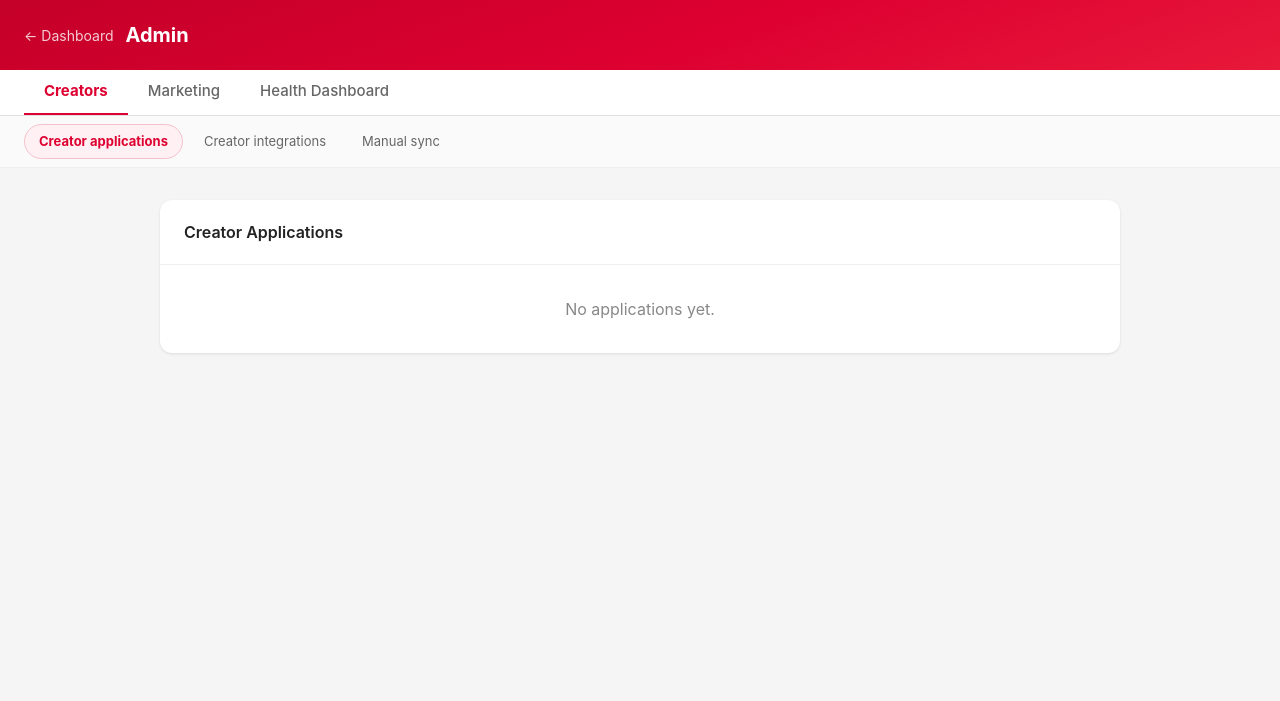
Test case: admin Sources tab — poll health › names the source that polls cleanly and produces nothing
The width and height of the screenshot is (1280, 701).
Click the button "Creator integrations" at x=265, y=141, box left=189, top=124, right=341, bottom=159
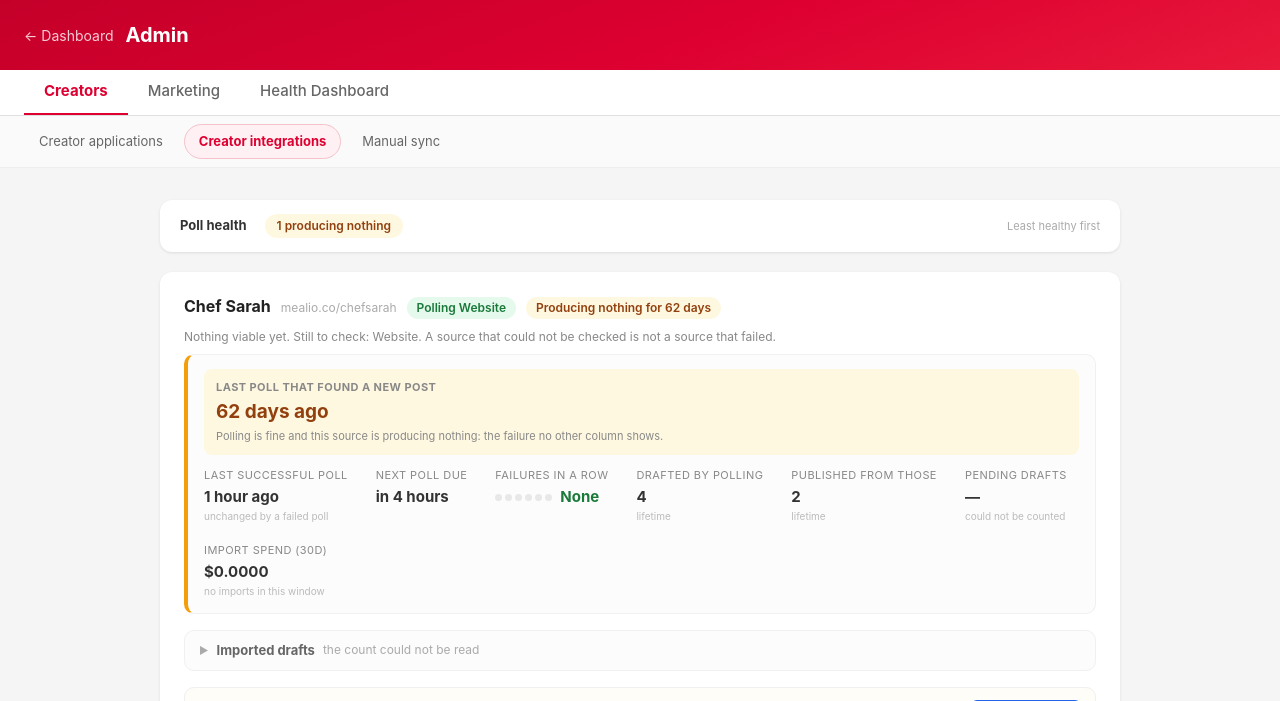
Expected: the element with test id "poll-health-summary" is shown, left=160, top=200, right=1120, bottom=252
Expected: the text with test id "poll-status-c1" reads "Producing nothing for 62 days", left=536, top=300, right=711, bottom=315
Expected: the element with test id "poll-last-new-c1" shows "producing nothing", left=216, top=429, right=663, bottom=443
